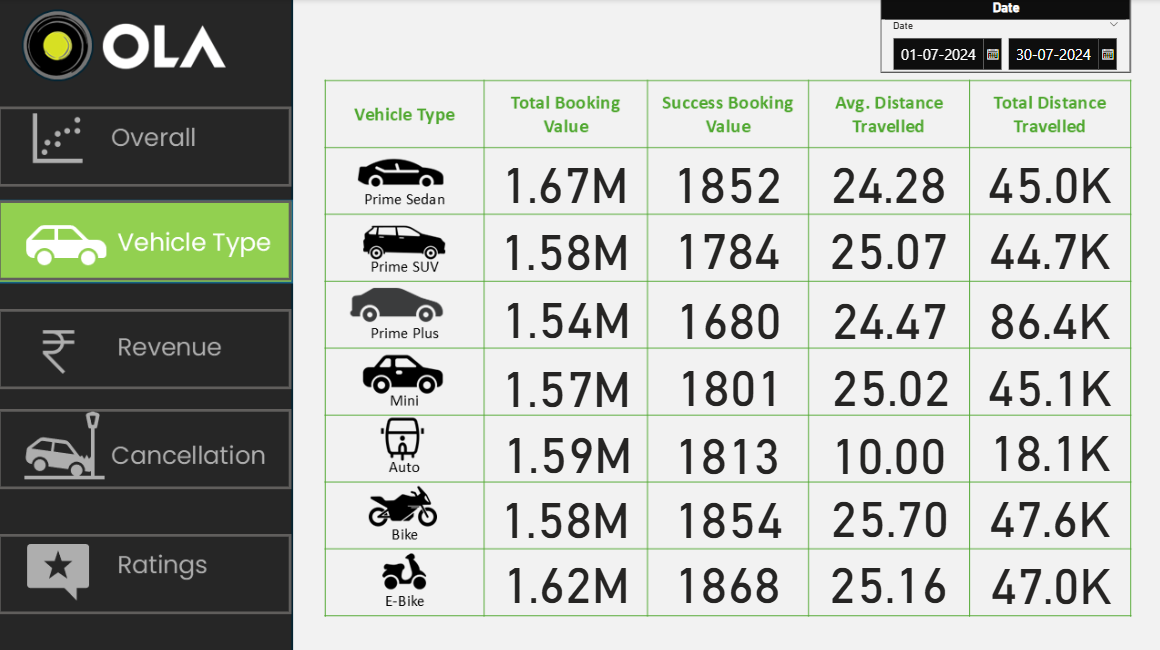

Layout of this report page (visuals, bound fields, positions):
{"tool":"powerbi","page":{"name":"vehicle type","canvas":[1280,720],"ordinal":1},"visuals":[{"type":"actionButton","box":[0,118.2,322.1,88.1],"z":0},{"type":"actionButton","box":[0,340.2,322.1,88.1],"z":1000},{"type":"actionButton","box":[0,450,322.1,88.1],"z":2000},{"type":"actionButton","box":[0,587.5,322.1,88.1],"z":3000},{"type":"actionButton","box":[0,220.8,322.1,88.1],"z":4000},{"type":"card","fields":{"Values":["Sum(July.Booking_Value)"]},"box":[544.8,161.9,155.1,72.7],"z":5000},{"type":"card","fields":{"Values":["Sum(July.Booking_Value)"]},"box":[544.8,234.6,155.1,74.1],"z":6000},{"type":"card","fields":{"Values":["Sum(July.Booking_Value)"]},"box":[546.1,308.7,155.1,75.5],"z":7000},{"type":"card","fields":{"Values":["Sum(July.Booking_Value)"]},"box":[546.1,384.2,155.1,75.5],"z":8000},{"type":"card","fields":{"Values":["Sum(July.Booking_Value)"]},"box":[547.5,456.9,155.1,75.5],"z":9000},{"type":"card","fields":{"Values":["Sum(July.Booking_Value)"]},"box":[544.8,532.4,155.1,67.2],"z":10000},{"type":"card","fields":{"Values":["Sum(July.Booking_Value)"]},"box":[546.1,599.7,155.1,75.5],"z":11000},{"type":"card","fields":{"Values":["CountNonNull(July.Booking_Status)"]},"box":[723.2,161.9,155.1,72.7],"z":12000},{"type":"card","fields":{"Values":["CountNonNull(July.Booking_Status)"]},"box":[723.2,234.6,155.1,72.7],"z":13000},{"type":"card","fields":{"Values":["CountNonNull(July.Booking_Status)"]},"box":[724.5,311.5,155.1,72.7],"z":14000},{"type":"card","fields":{"Values":["CountNonNull(July.Booking_Status)"]},"box":[725.9,384.2,155.1,72.7],"z":15000},{"type":"card","fields":{"Values":["CountNonNull(July.Booking_Status)"]},"box":[723.2,459.7,155.1,72.7],"z":16000},{"type":"card","fields":{"Values":["CountNonNull(July.Booking_Status)"]},"box":[724.5,529.7,155.1,72.7],"z":17000},{"type":"card","fields":{"Values":["CountNonNull(July.Booking_Status)"]},"box":[723.2,601,155.1,72.7],"z":18000},{"type":"card","fields":{"Values":["Avg(July.Ride_Distance)"]},"box":[900.2,161.9,155.1,72.7],"z":19000},{"type":"card","fields":{"Values":["Avg(July.Ride_Distance)"]},"box":[900.2,234.6,155.1,72.7],"z":20000},{"type":"card","fields":{"Values":["Avg(July.Ride_Distance)"]},"box":[901.5,311.5,155.1,72.7],"z":21000},{"type":"card","fields":{"Values":["Avg(July.Ride_Distance)"]},"box":[902.9,384.2,155.1,72.7],"z":22000},{"type":"card","fields":{"Values":["Avg(July.Ride_Distance)"]},"box":[900.2,459.7,155.1,72.7],"z":23000},{"type":"card","fields":{"Values":["Avg(July.Ride_Distance)"]},"box":[901.5,528.3,155.1,72.7],"z":24000},{"type":"card","fields":{"Values":["Avg(July.Ride_Distance)"]},"box":[900.2,601,155.1,72.7],"z":25000},{"type":"card","fields":{"Values":["Sum(July.Ride_Distance)"]},"box":[1077.2,161.9,155.1,72.7],"z":26000},{"type":"card","fields":{"Values":["Sum(July.Ride_Distance)"]},"box":[1077.2,234.6,155.1,72.7],"z":27000},{"type":"card","fields":{"Values":["Sum(July.Ride_Distance)"]},"box":[1077.2,311.5,155.1,72.7],"z":28000},{"type":"card","fields":{"Values":["Sum(July.Ride_Distance)"]},"box":[1077.2,384.2,155.1,72.7],"z":29000},{"type":"card","fields":{"Values":["Sum(July.Ride_Distance)"]},"box":[1077.2,455.6,155.1,72.7],"z":30000},{"type":"card","fields":{"Values":["Sum(July.Ride_Distance)"]},"box":[1077.2,528.3,155.1,72.7],"z":31000},{"type":"card","fields":{"Values":["Sum(July.Ride_Distance)"]},"box":[1078.6,602.4,155.1,72.7],"z":32000},{"type":"slicer","title":"Date","fields":{"Values":["July.Date"]},"box":[968.8,0,274.4,81],"z":32001}]}

Visuals, with their boxes in screenshot pixels (x1, y1, x2, y2), scaled from the page's 1280x720 canvas onto the 1160x650 screenshot:
actionButton: 0 107 292 186
actionButton: 0 307 292 387
actionButton: 0 406 292 486
actionButton: 0 530 292 610
actionButton: 0 199 292 279
card - Sum(July.Booking_Value): 494 146 634 212
card - Sum(July.Booking_Value): 494 212 634 279
card - Sum(July.Booking_Value): 495 279 635 347
card - Sum(July.Booking_Value): 495 347 635 415
card - Sum(July.Booking_Value): 496 412 637 481
card - Sum(July.Booking_Value): 494 481 634 541
card - Sum(July.Booking_Value): 495 541 635 610
card - CountNonNull(July.Booking_Status): 655 146 796 212
card - CountNonNull(July.Booking_Status): 655 212 796 277
card - CountNonNull(July.Booking_Status): 657 281 797 347
card - CountNonNull(July.Booking_Status): 658 347 798 412
card - CountNonNull(July.Booking_Status): 655 415 796 481
card - CountNonNull(July.Booking_Status): 657 478 797 544
card - CountNonNull(July.Booking_Status): 655 543 796 608
card - Avg(July.Ride_Distance): 816 146 956 212
card - Avg(July.Ride_Distance): 816 212 956 277
card - Avg(July.Ride_Distance): 817 281 958 347
card - Avg(July.Ride_Distance): 818 347 959 412
card - Avg(July.Ride_Distance): 816 415 956 481
card - Avg(July.Ride_Distance): 817 477 958 543
card - Avg(July.Ride_Distance): 816 543 956 608
card - Sum(July.Ride_Distance): 976 146 1117 212
card - Sum(July.Ride_Distance): 976 212 1117 277
card - Sum(July.Ride_Distance): 976 281 1117 347
card - Sum(July.Ride_Distance): 976 347 1117 412
card - Sum(July.Ride_Distance): 976 411 1117 477
card - Sum(July.Ride_Distance): 976 477 1117 543
card - Sum(July.Ride_Distance): 977 544 1118 609
"Date" slicer: 878 0 1127 73
